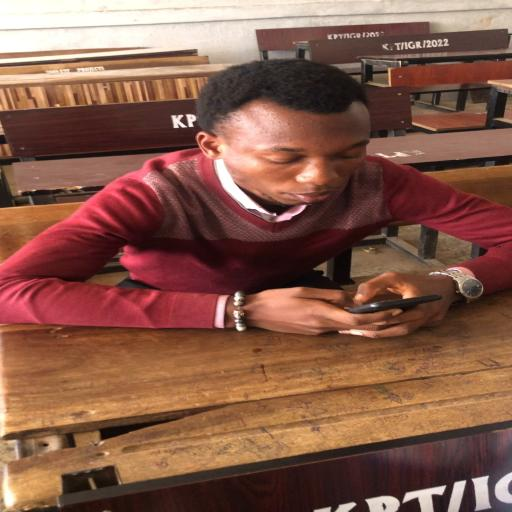Usingmobile: (2, 58, 510, 335)
